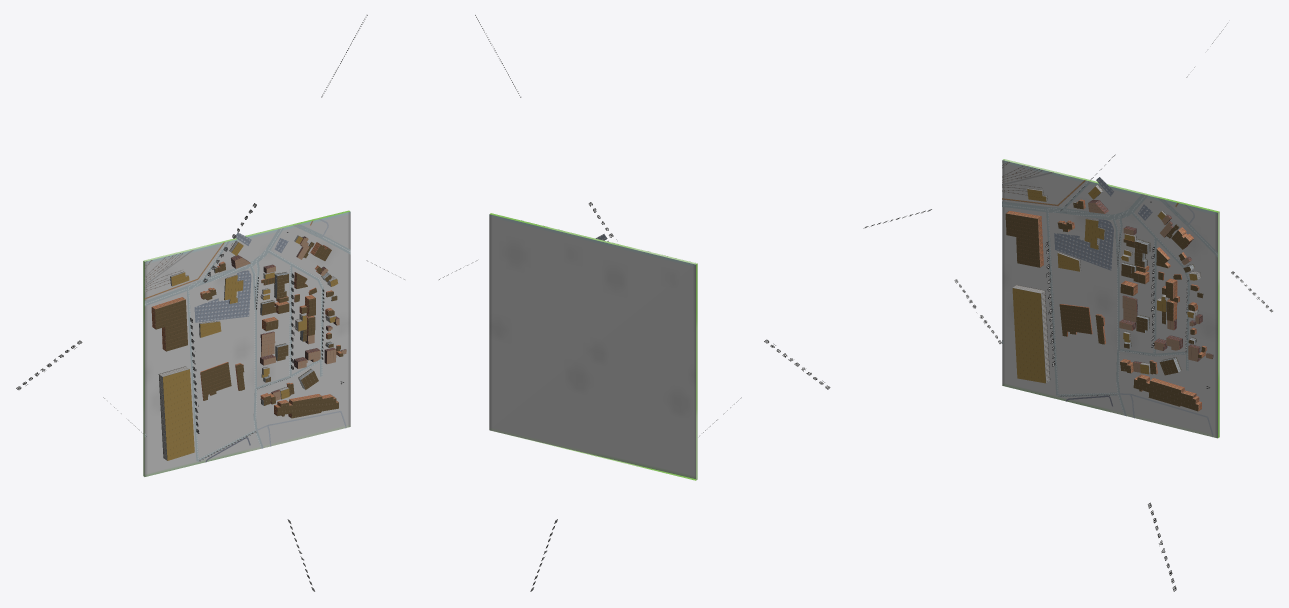
3 views of the same model, side by side, from view 1: azimuth 30°, elevation 25°; view 2: azimuth 150°, elevation 25°; view 3: azimuth 330°, elevation 25° (orthographic). The views are drawn at different scales.
Parts seen in each view (by area): view 1: POLYGON, BUILDING, POLYLINE, FONT; view 2: POLYGON; view 3: POLYGON, BUILDING, POLYLINE, FONT.
Boxes of the visible parts, x1,y1,x2,y2 form: POLYGON: (143, 210, 350, 476); BUILDING: (151, 235, 346, 460); POLYLINE: (144, 219, 350, 462); FONT: (16, 15, 404, 591); POLYGON: (489, 213, 697, 480); POLYGON: (1002, 159, 1219, 438); BUILDING: (1005, 185, 1213, 411); POLYLINE: (1002, 160, 1217, 437); FONT: (863, 23, 1272, 591).
Size of the model in its own units: 1161 by 1599 by 29.
4 materials, 4 textured.
